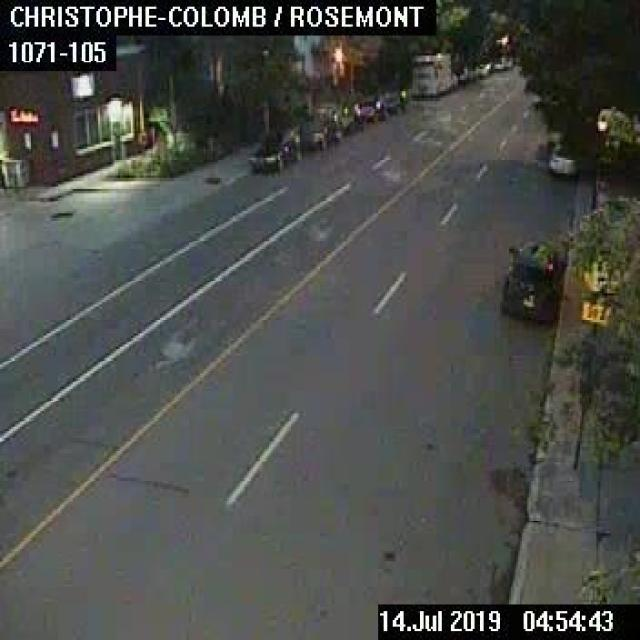vehicle: (499, 239, 560, 322), (250, 130, 298, 173), (411, 51, 450, 96), (300, 104, 338, 148), (544, 142, 578, 180), (354, 93, 382, 122), (339, 105, 361, 134), (383, 91, 403, 112), (476, 62, 489, 74), (493, 55, 502, 68), (503, 55, 511, 67)
